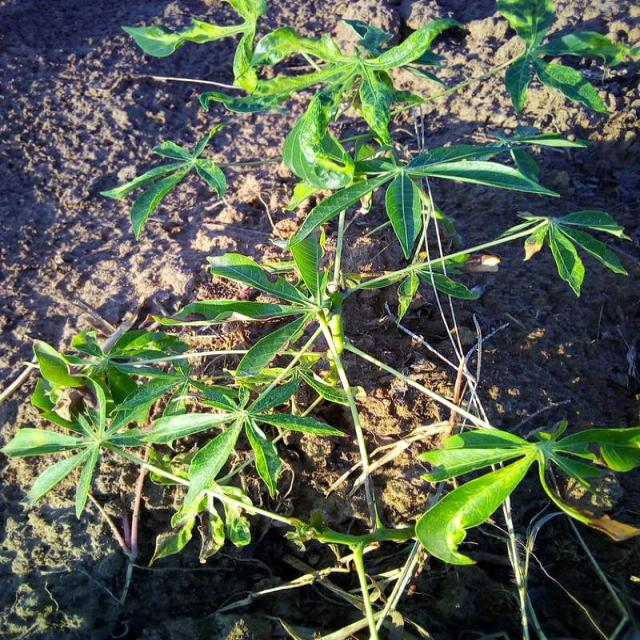cassava leaf: (413, 418, 638, 567)
